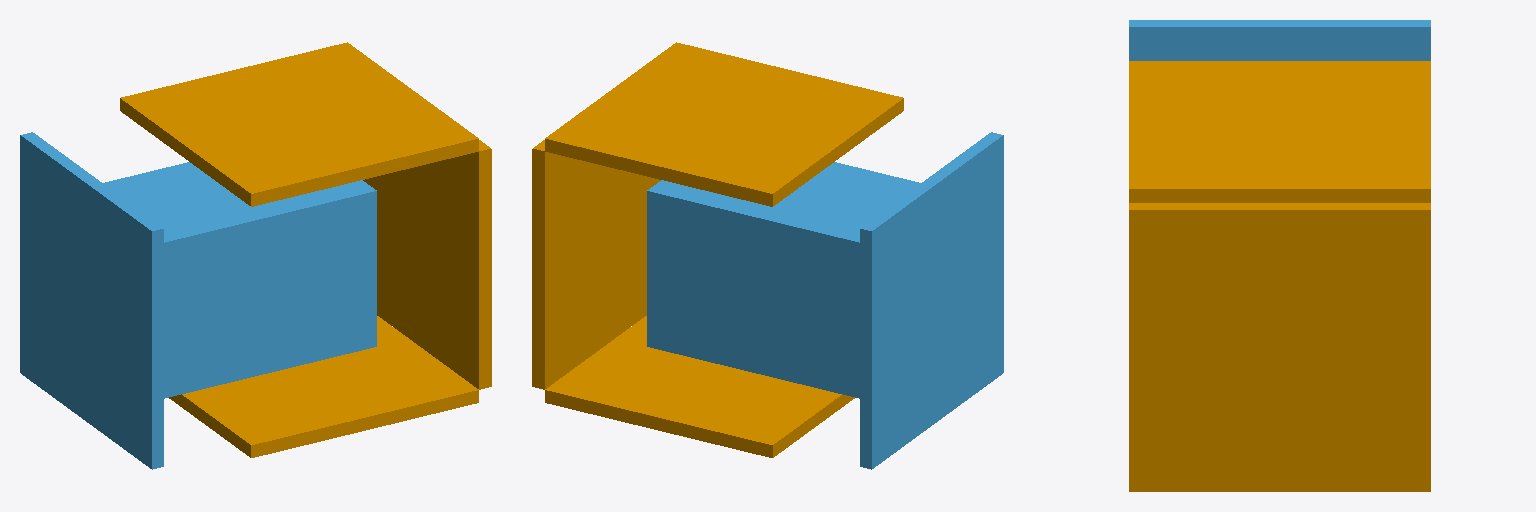
The robot description file, URDF, robot "Servo":
<?xml version="0.0" ?>
<robot name="Servo">
  <link name="Body">
    <inertial>
      <origin rpy="0 0 0" xyz="0 0 0"/>
       <mass value="0.0825"/>
			 <inertia ixx="0" ixy="0" ixz="0" iyy="0" iyz="0" izz="0"/>
    </inertial>
    <visual>
      <origin rpy="0 0 0" xyz="0.115 0.75 -0.2"/>
      <geometry>
				<mesh filename="Servo.stl" scale="1 1 1" />
      </geometry>
    </visual>
    <collision>
      <origin rpy="0 0 0" xyz="0 0 0.0"/>
      <geometry>
        <box size="0.055 0.061 0.061" />
      </geometry>
    </collision>
  </link>
  <link name="Plate">
    <inertial>
      <origin rpy="0 0 0" xyz="0 0 0"/>
       <mass value="0.0825"/>
			 <inertia ixx="0" ixy="0" ixz="0" iyy="0" iyz="0" izz="0"/>
    </inertial>
    <visual>
      <origin rpy="0 0 0" xyz="0.13 0.75 -0.2"/>
      <geometry>
				<mesh filename="ServoPlate.stl" scale="1 1 1" />
      </geometry>
    </visual>
    <collision>
      <origin rpy="0 0 0" xyz="0.0 0 0"/>
      <geometry>
        <box size="0.061 0.055 0.055" />
      </geometry>
    </collision>
  </link>
  <joint name="Joint" type="revolute">
		<origin xyz="-0.02 0.0 0.0" />
		<parent link="Body" />
		<child link="Plate" />
		<axis xyz="0 0 1" />
		<limit effort="1.5" lower="-1.57" upper="1.57" velocity="3.0" />
  </joint>
</robot>

--- Render facts (derived) ---
3 views of the same robot in one strip: view 1: azimuth 30°, elevation 25°; view 2: azimuth 150°, elevation 25°; view 3: azimuth 270°, elevation 25° (orthographic).
Model Servo with 2 links and 1 joints (1 revolute), rooted at Body, posed every joint at zero.
Visible links, largest first — view 1: Plate, Body; view 2: Plate, Body; view 3: Body, Plate.
Link boxes in pixels (x1,y1,x2,y2): Plate: [20, 132, 376, 469]; Body: [120, 42, 491, 457]; Plate: [647, 132, 1003, 469]; Body: [532, 42, 903, 457]; Body: [1129, 61, 1430, 491]; Plate: [1129, 20, 1430, 60].
Bounding box of the posed robot: 0.082 × 0.055 × 0.061 m (x, y, z).
2 mesh visuals loaded from 2 distinct referenced files (2 binary STL).